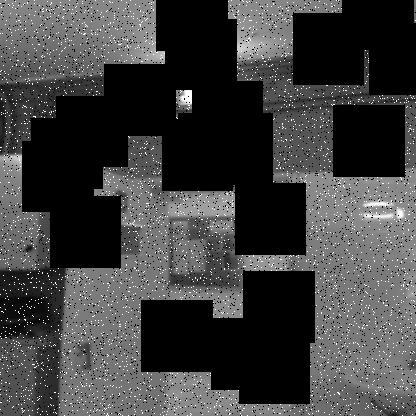Porte: (55, 158, 307, 415)
